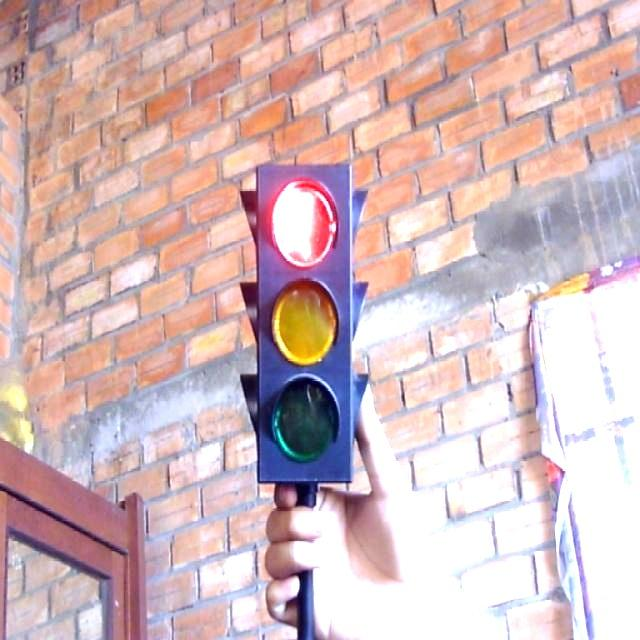Red: (238, 156, 376, 496)
